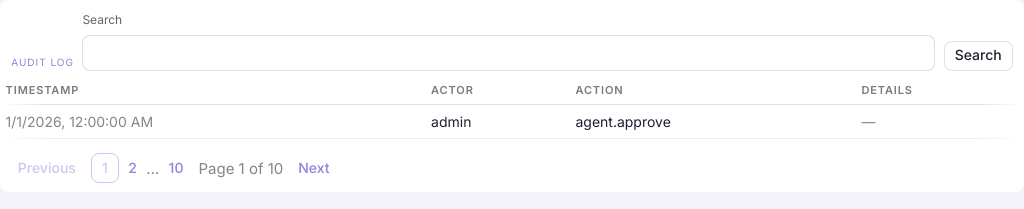
Test case: AuditLogTab › jumps directly to a page number
This screenshot has width=1024, height=209.
Check: the text "Page 1 of 10" is shown, box [198,157,283,180]
Click the button named "Page 10" at (176, 168), box [162,154,190,184]
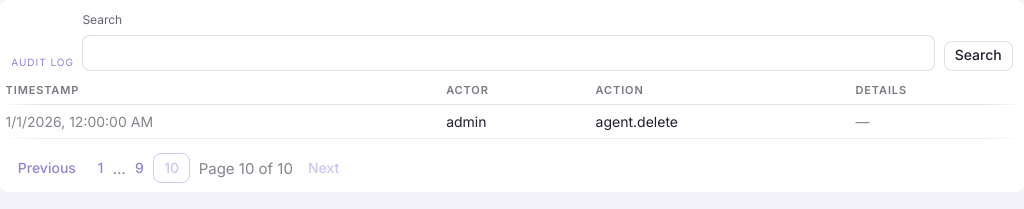
Check: the text "Page 10 of 10" is shown, box [199,157,293,180]
